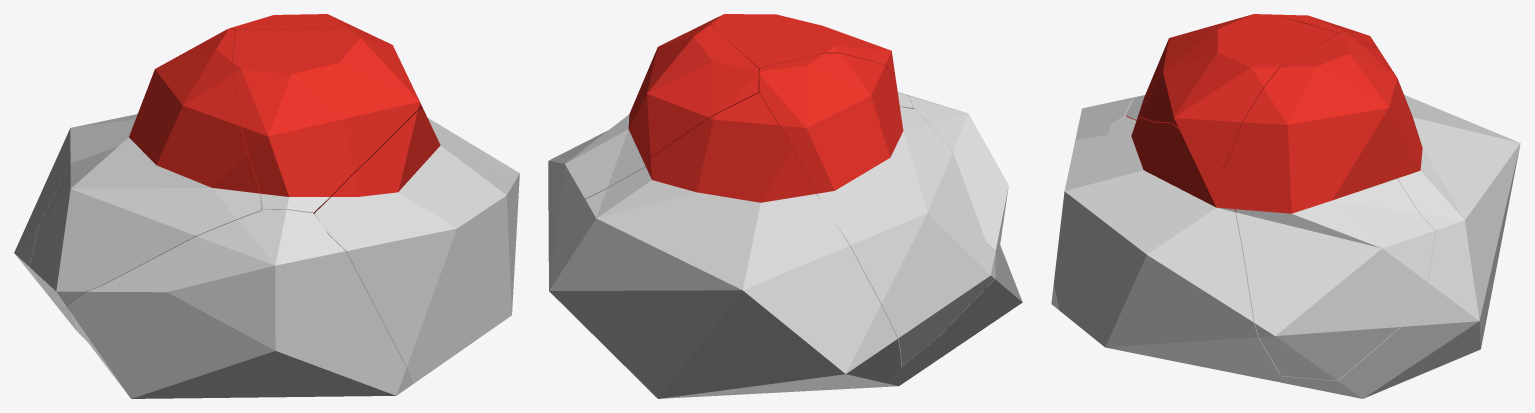
The model's file is RubyOreCrack.fbx.
3 renders of one model, left to right at view 1: azimuth 30°, elevation 25°; view 2: azimuth 150°, elevation 25°; view 3: azimuth 270°, elevation 25°, orthographic. The views are drawn at different scales.
Parts seen in each view (by area): view 1: Cube_cell.001, Cube_cell.004, Cube_cell, Cube_cell.002, Cube_cell.005, Cube_cell.003; view 2: Cube_cell.005, Cube_cell, Cube_cell.003, Cube_cell.001, Cube_cell.002; view 3: Cube_cell.003, Cube_cell.004, Cube_cell.005, Cube_cell.002, Cube_cell.001, Cube_cell.
Part boxes in pixels (box(x1,y1,x2,y2)): Cube_cell.001: box(66, 209, 412, 398); Cube_cell.004: box(314, 107, 518, 383); Cube_cell: box(29, 29, 262, 329); Cube_cell.002: box(232, 27, 422, 213); Cube_cell.005: box(14, 114, 137, 295); Cube_cell.003: box(229, 14, 519, 186); Cube_cell.005: box(548, 93, 901, 398); Cube_cell: box(759, 53, 995, 366); Cube_cell.003: box(548, 24, 758, 240); Cube_cell.001: box(861, 95, 1022, 388); Cube_cell.002: box(702, 14, 913, 108); Cube_cell.003: box(1225, 32, 1435, 380); Cube_cell.004: box(1053, 116, 1280, 381); Cube_cell.005: box(1279, 42, 1520, 398); Cube_cell.002: box(1125, 14, 1338, 170); Cube_cell.001: box(1051, 95, 1144, 309); Cube_cell: box(1274, 14, 1408, 96).
Size of the model in its own units: 145 by 95.92 by 128.
